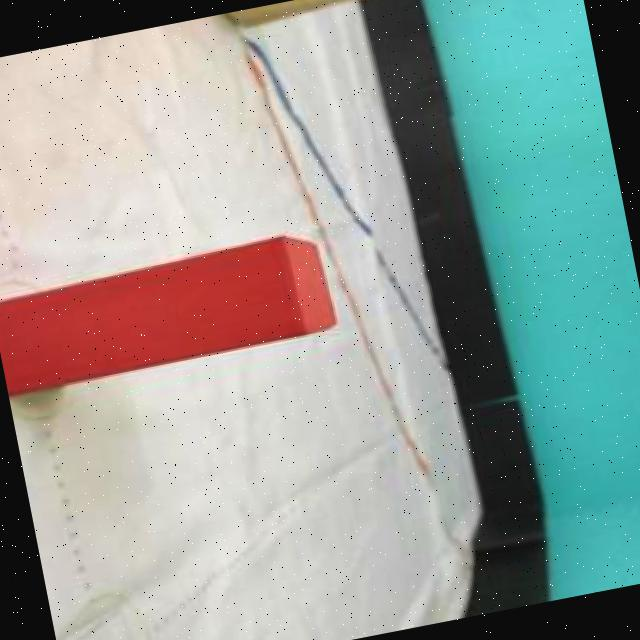redbox: (0, 235, 337, 393)
